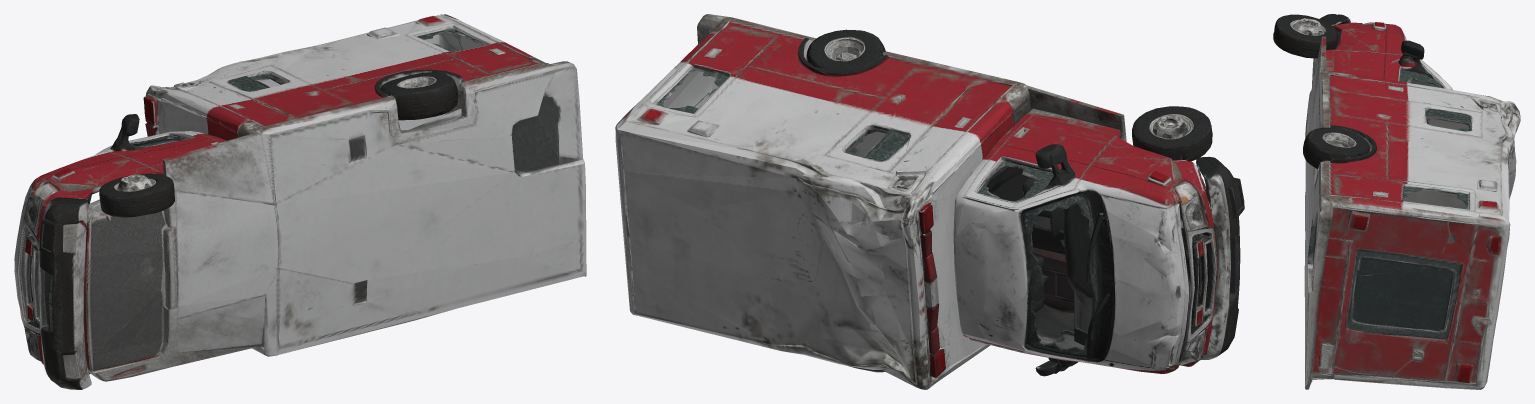
File: ambulance_wreck.glb
3 renders of one model, left to right at view 1: azimuth 30°, elevation 25°; view 2: azimuth 150°, elevation 25°; view 3: azimuth 270°, elevation 25°, orthographic. The views are drawn at different scales.
Visible parts, largest first — view 1: Mesh_0; view 2: Mesh_0; view 3: Mesh_0.
Boxes of the visible parts, <box> form: Mesh_0: <box>14,14,586,389</box>; Mesh_0: <box>615,14,1244,389</box>; Mesh_0: <box>1273,14,1520,389</box>.
Size of the model in its own units: 1.9 by 0.8102 by 0.8906.
1 material, 1 textured.
